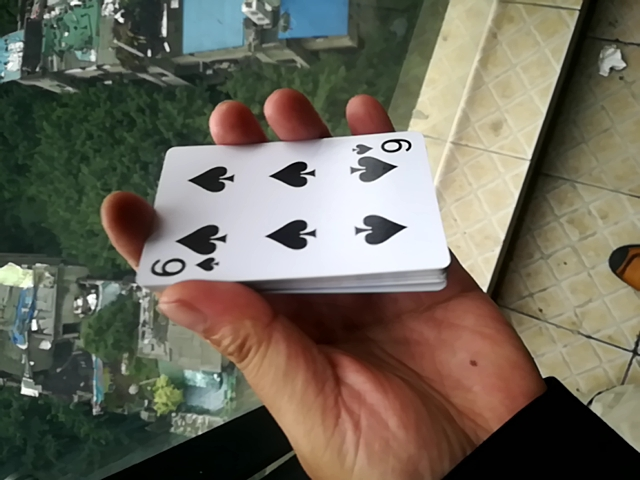ht 6: (147, 139, 453, 284)
